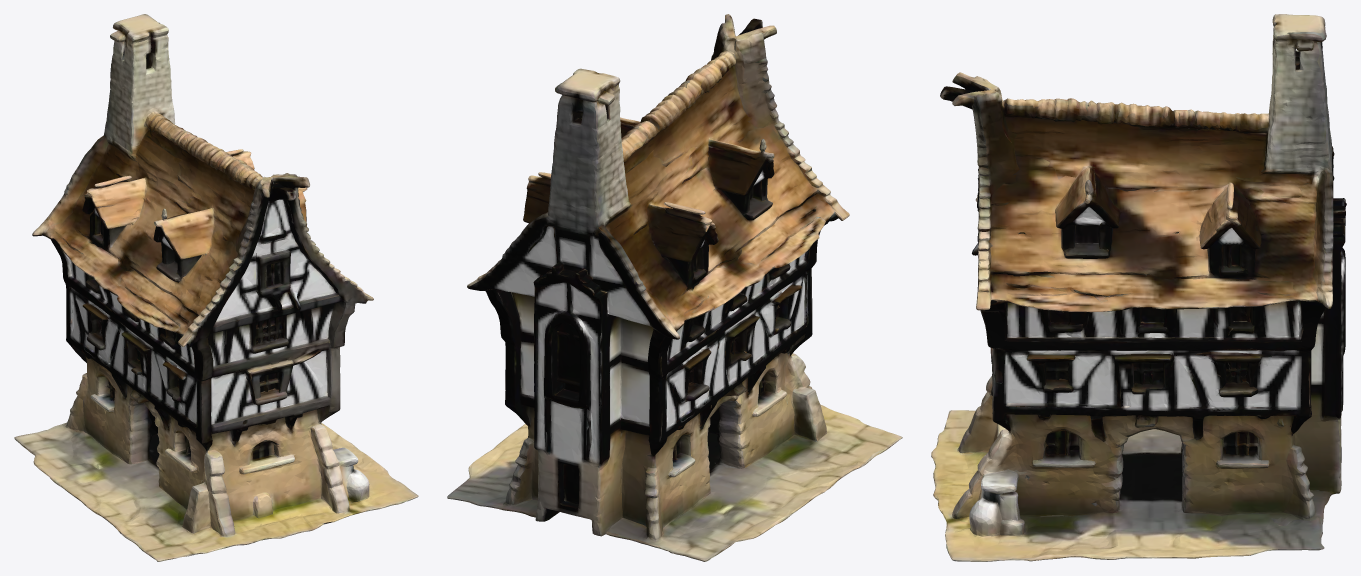
Rendered from war_house_ruin_02.glb.
The picture shows the model from 3 angles, left to right: view 1: azimuth 30°, elevation 25°; view 2: azimuth 150°, elevation 25°; view 3: azimuth 270°, elevation 25°; orthographic projection. The views are drawn at different scales.
Parts seen in each view (by area): view 1: geometry_0; view 2: geometry_0; view 3: geometry_0.
Part boxes in pixels (<box>): geometry_0: <box>14,14,418,561</box>; geometry_0: <box>447,14,902,561</box>; geometry_0: <box>931,14,1346,561</box>.
Bounding box in the file's own units: 0.6938 × 1 × 0.8061.
Materials: 1 (1 with a texture image).
